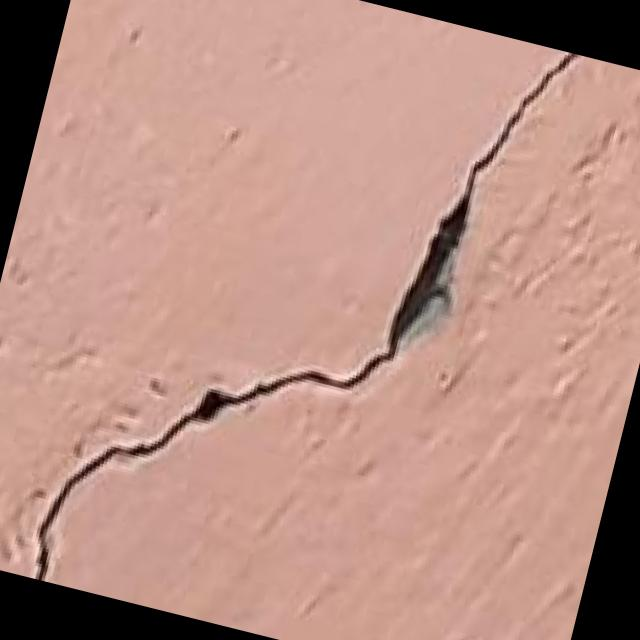crack: (10, 0, 574, 640)
